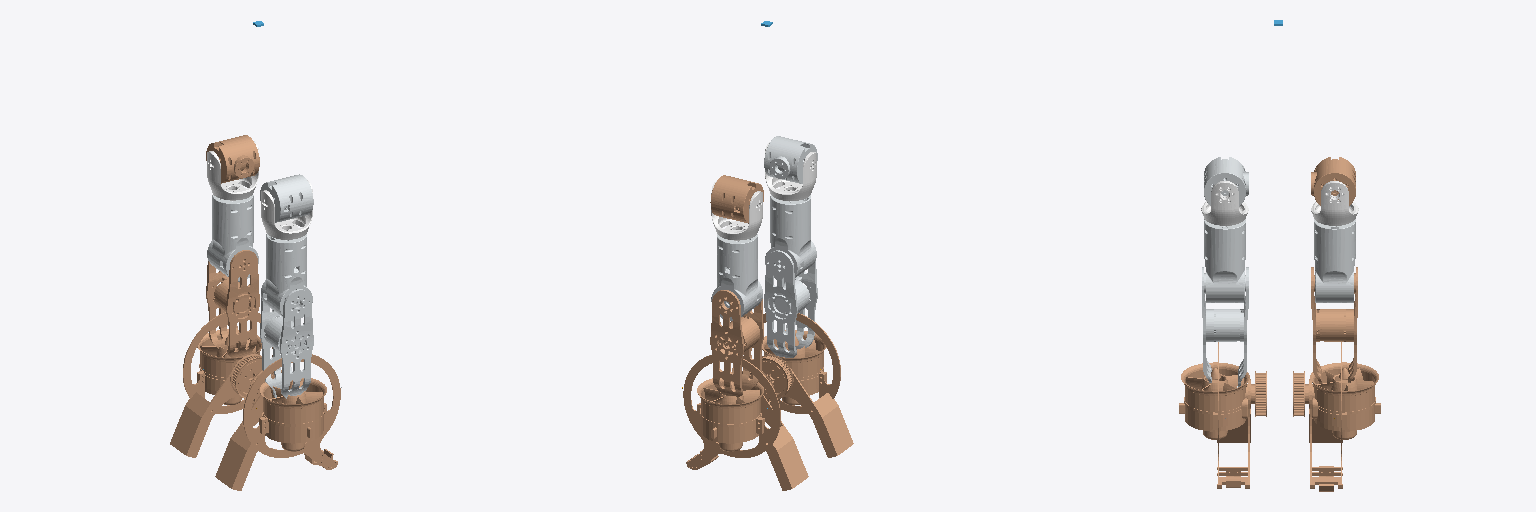
--- Render facts (derived) ---
The picture shows the robot from 3 angles, left to right: view 1: azimuth 30°, elevation 25°; view 2: azimuth 150°, elevation 25°; view 3: azimuth 270°, elevation 25°; orthographic projection.
Model legged_dm_description with 17 links and 16 joints (10 revolute, 6 fixed), rooted at base_link, posed every joint at zero.
Links seen in each view (by area): view 1: leg_r5_link, leg_l5_link, leg_r4_link, leg_l4_link, leg_l3_link, leg_r3_link, leg_l1_link, leg_r1_link, leg_l2_link, leg_r2_link; view 2: leg_l5_link, leg_r5_link, leg_l4_link, leg_r4_link, leg_l3_link, leg_r3_link, leg_r1_link, leg_l1_link, leg_l2_link, leg_r2_link; view 3: leg_l5_link, leg_r5_link, leg_r3_link, leg_l3_link, leg_l4_link, leg_r4_link, leg_l2_link, leg_r2_link, leg_l1_link, leg_r1_link.
Boxes of the visible links, left/top/right/bottom form: leg_r5_link: left=215, top=354, right=340, bottom=490; leg_l5_link: left=170, top=312, right=272, bottom=457; leg_r4_link: left=260, top=289, right=313, bottom=398; leg_l4_link: left=206, top=250, right=259, bottom=357; leg_l3_link: left=207, top=195, right=258, bottom=281; leg_r3_link: left=261, top=234, right=312, bottom=320; leg_l1_link: left=206, top=135, right=259, bottom=183; leg_r1_link: left=260, top=174, right=313, bottom=222; leg_l2_link: left=207, top=141, right=258, bottom=200; leg_r2_link: left=261, top=180, right=312, bottom=239; leg_l5_link: left=683, top=355, right=808, bottom=490; leg_r5_link: left=751, top=313, right=853, bottom=457; leg_l4_link: left=710, top=290, right=763, bottom=397; leg_r4_link: left=764, top=250, right=817, bottom=357; leg_l3_link: left=711, top=234, right=762, bottom=320; leg_r3_link: left=765, top=195, right=816, bottom=281; leg_r1_link: left=764, top=136, right=817, bottom=183; leg_l1_link: left=710, top=175, right=763, bottom=223; leg_l2_link: left=711, top=181, right=762, bottom=240; leg_r2_link: left=765, top=142, right=816, bottom=200; leg_l5_link: left=1293, top=342, right=1380, bottom=491; leg_r5_link: left=1179, top=342, right=1266, bottom=488; leg_r3_link: left=1204, top=219, right=1245, bottom=302; leg_l3_link: left=1314, top=219, right=1355, bottom=302; leg_l4_link: left=1311, top=267, right=1357, bottom=383; leg_r4_link: left=1202, top=267, right=1248, bottom=387; leg_l2_link: left=1311, top=181, right=1358, bottom=225; leg_r2_link: left=1201, top=181, right=1248, bottom=225; leg_l1_link: left=1311, top=157, right=1355, bottom=205; leg_r1_link: left=1204, top=157, right=1248, bottom=205.
Size in the robot's own frame: 0.2357 by 0.3521 by 0.8571 metres.
Meshes: 12 distinct files referenced, 10 mesh visuals loaded (10 binary STL); not drawn: 2 (reference not matched to a file when rendering).

The robot description file, URDF, robot "legged_dm_description":
<?xml version="1.0" encoding="utf-8"?>
<!-- This URDF was automatically created by SolidWorks to URDF Exporter! Originally created by Stephen Brawner ([email redacted]) 
     Commit Version: 1.6.0-4-g7f85cfe  Build Version: 1.6.7995.38578
     For more information, please see http://wiki.ros.org/sw_urdf_exporter -->
<robot
  name="legged_dm_description">
  
  <gazebo>
    <plugin name="gazebo_ros_control" filename="libdm_bipedal_hw_sim.so">
      <robotNamespace>/</robotNamespace>
      <robotParam>legged_robot_description</robotParam>
      <robotSimType>legged_gazebo/LeggedHWSim</robotSimType>
    </plugin>
  </gazebo>
  
  <link
    name="base_link">
    <inertial>
      <origin
        xyz="0.003477 0.001569 -0.150376"
        rpy="0 0 0" />
      <mass
        value="2.9867" />
      <inertia
        ixx="0.021202"
        ixy="-0.000029"
        ixz="-0.000399"
        iyy="0.017689"
        iyz="-0.000112"
        izz="0.00834" />
    </inertial>
    <visual>
      <origin
        xyz="0 0 0"
        rpy="0 0 0" />
      <geometry>
        <mesh
          filename="package://legged_dm_description/meshes/base_link.STL" />
      </geometry>
      <material
        name="">
        <color
          rgba="0.792156862745098 0.819607843137255 0.933333333333333 1" />
      </material>
    </visual>
    <collision>
      <origin
        xyz="-0.01 0 -0.11"
        rpy="0 0 0" />
      <geometry>
        <box size="0.10 0.12 0.24" />
      </geometry>
    </collision>
  </link>
  
  
  <joint name="imu_joint" type="fixed">
    <origin rpy="0. 0. 0." xyz="0. 0. 0"/>
    <parent link="base_link"/>
    <child link="imu_link"/>
  </joint>
  <!-- Imu link -->
  <link name="imu_link">
    <inertial>
      <mass value="0.01"/>
      <origin rpy="0 0 0" xyz="0 0 0"/>
      <inertia ixx="0.000001" ixy="0" ixz="0" iyy="0.000001" iyz="0" izz="0.000001"/>
    </inertial>
    <visual>
      <origin rpy="0 0 0" xyz="0 0 0"/>
      <geometry>
        <box size="0.015 0.015 0.004"/>
      </geometry>
    </visual>
    <material name="orange">
      <color rgba="255 108 10 255"/>
    </material>
  </link>
  <gazebo reference="imu_joint">
    <disableFixedJointLumping>true</disableFixedJointLumping>
  </gazebo>



  <link
    name="loin_yaw_Link">
    <inertial>
      <origin
        xyz="-0.000019 0.0 -0.041281"
        rpy="0 0 0" />
      <mass
        value="1.2992" />
      <inertia
        ixx="0.002464"
        ixy="0.0"
        ixz="0.000012"
        iyy="0.001435"
        iyz="0.0"
        izz="0.002372" />
    </inertial>
    <visual>
      <origin
        xyz="0 0 0"
        rpy="0 0 0" />
      <geometry>
        <mesh
          filename="package://legged_dm_description/meshes/loin_yaw_Link.STL" />
      </geometry>
      <material
        name="">
        <color
          rgba="0.854901960784314 0.674509803921569 0.541176470588235 1" />
      </material>
    </visual>
    <collision>
      <origin
        xyz="0 0 -0.045"
        rpy="0 0 0" />
      <geometry>
        <box size="0.08 0.1 0.07" />
      </geometry>
    </collision>
  </link>
  <joint
    name="loin_yaw_joint"
    type="fixed">
    <origin
      xyz="0.0042148 0.0028621 -0.25475"
      rpy="0 0 0" />
    <parent
      link="base_link" />
    <child
      link="loin_yaw_Link" />
    <axis
      xyz="0 0 0" />
  </joint>
  
  <link
    name="leg_l1_link">
    <inertial>
      <origin
        xyz="0.003422 0.041688 -0.000076"
        rpy="0 0 0" />
      <mass
        value="0.51890" />
      <inertia
        ixx="0.000307"
        ixy="-0.000002"
        ixz="-0.000001"
        iyy="0.000305"
        iyz="0.0"
        izz="0.000309" />
    </inertial>
    <visual>
      <origin
        xyz="0 0 0"
        rpy="0 0 0" />
      <geometry>
        <mesh
          filename="package://legged_dm_description/meshes/leg_l1_link.STL" />
      </geometry>
      <material
        name="">
        <color
          rgba="0.854901960784314 0.674509803921569 0.541176470588235 1" />
      </material>
    </visual>
    <collision>
      <origin
        xyz="0 0 0"
        rpy="0 0 0" />
      <geometry>
        <box size="0.0001 0.0001 0.0001" />
      </geometry>
    </collision>
  </link>
  <joint
    name="leg_l1_joint"
    type="revolute">
    <origin
      xyz="0 0.05355 -0.0515"
      rpy="0 0 0" />
    <parent
      link="loin_yaw_Link" />
    <child
      link="leg_l1_link" />
    <axis
      xyz="0 1 0" />
    <limit
      lower="-1.05"
      upper="1.05"
      effort="28"
      velocity="10" />
  </joint>
  
  
  <link
    name="leg_l2_link">
    <inertial>
      <origin
        xyz="-0.029211 0.000016 -0.031591"
        rpy="0 0 0" />
      <mass
        value="0.1429" />
      <inertia
        ixx="0.000157"
        ixy="0.0"
        ixz="-0.000008"
        iyy="0.000254"
        iyz="0.0"
        izz="0.00017" />
    </inertial>
    <visual>
      <origin
        xyz="0 0 0"
        rpy="0 0 0" />
      <geometry>
        <mesh
          filename="package://legged_dm_description/meshes/leg_l2_link.STL" />
      </geometry>
      <material
        name="">
        <color
          rgba="1 1 1 1" />
      </material>
    </visual>
     <collision>
      <origin
        xyz="0 0 0"
        rpy="0 0 0" />
      <geometry>
        <box size="0.0001 0.0001 0.0001" />
      </geometry>
    </collision>
  </link>
  <joint
    name="leg_l2_joint"
    type="revolute">
    <origin
      xyz="0.03105 0.042 0"
      rpy="0 0 0" />
    <parent
      link="leg_l1_link" />
    <child
      link="leg_l2_link" />
    <axis
      xyz="1 0 0" />
    <limit
      lower="-0.52"
      upper="0.785"
      effort="28"
      velocity="10" />
  </joint>
  
  
  <link
    name="leg_l3_link">
    <inertial>
      <origin
        xyz="-0.000082 0.001688 -0.070672"
        rpy="0 0 0" />
      <mass
        value="0.9821" />
      <inertia
        ixx="0.002536"
        ixy="0.000001"
        ixz="0.000009"
        iyy="0.002518"
        iyz="0.000081"
        izz="0.000580" />
    </inertial>
    <visual>
      <origin
        xyz="0 0 0"
        rpy="0 0 0" />
      <geometry>
        <mesh
          filename="package://legged_dm_description/meshes/leg_l3_link.STL" />
      </geometry>
      <material
        name="">
        <color
          rgba="0.898039215686275 0.917647058823529 0.929411764705882 1" />
      </material>
    </visual>
    <collision>
      <origin
        xyz="0 0 0"
        rpy="0 0 0" />
      <geometry>
        <box size="0.0001 0.0001 0.0001" />
      </geometry>
    </collision>
  </link>
  <joint
    name="leg_l3_joint"
    type="revolute">
    <origin
      xyz="-0.03105 0 -0.07405"
      rpy="0 0 0" />
    <parent
      link="leg_l2_link" />
    <child
      link="leg_l3_link" />
    <axis
      xyz="0 0 1" />
    <limit
      lower="-0.52"
      upper="0.785"
      effort="28"
      velocity="10" />
  </joint>
  
  
  <link
    name="leg_l4_link">
    <inertial>
      <origin
        xyz="0.000193 -0.033837 -0.078429"
        rpy="0 0 0" />
      <mass
        value="0.5069" />
      <inertia
        ixx="0.000963"
        ixy="-0.000004"
        ixz="0.0"
        iyy="0.000827"
        iyz="0.000006"
        izz="0.000364" />
    </inertial>
    <visual>
      <origin
        xyz="0 0 0"
        rpy="0 0 0" />
      <geometry>
        <mesh
          filename="package://legged_dm_description/meshes/leg_l4_link.STL" />
      </geometry>
      <material
        name="">
        <color
          rgba="0.854901960784314 0.674509803921569 0.541176470588235 1" />
      </material>
    </visual>
    <collision>
      <origin xyz="0 -0.03 -0.1" rpy="0 0 0" />
      <geometry>
        <box size="0.041 0.07 0.15" />
      </geometry>
    </collision>
  </link>
  <joint
    name="leg_l4_joint"
    type="revolute">
    <origin
      xyz="0 0.03105 -0.11705"
      rpy="0 0 0" />
    <parent
      link="leg_l3_link" />
    <child
      link="leg_l4_link" />
    <axis
      xyz="0 1 0" />
    <limit
      lower="-0.3"
      upper="2.3562"
      effort="28"
      velocity="10" />
  </joint>
  
  
  <link
    name="leg_l5_link">
     <inertial>
      <origin
        xyz="0.000551 -0.008875 0.018431"
        rpy="0 0 0" />
      <mass
        value="0.2272" />
      <inertia
        ixx="0.000644"
        ixy="0.000011"
        ixz="0.000215"
        iyy="0.001037"
        iyz="-0.000062"
        izz="0.000498" />
    </inertial>
    <visual>
      <origin
        xyz="0 0 0"
        rpy="0 0 0" />
      <geometry>
        <mesh
          filename="package://legged_dm_description/meshes/leg_l5_link.STL" />
      </geometry>
      <material
        name="">
        <color
          rgba="0.854901960784314 0.674509803921569 0.541176470588235 1" />
      </material>
    </visual>
    <collision>
      <origin
        xyz="0.027 -0.012 -0.012"
        rpy="0 0 0" />
      <geometry>
        <box size="0.175 0.05 0.02" />
      </geometry>
    </collision>
  </link>
  <joint
    name="leg_l5_joint"
    type="revolute">
    <origin
      xyz="-1.6188E-05 -0.01955 -0.20287"
      rpy="0 0 0" />
    <parent
      link="leg_l4_link" />
    <child
      link="leg_l5_link" />
    <axis
      xyz="0 1 0" />
    <limit
      lower="-1.047"
      upper="0.3"
      effort="28"
      velocity="10" />
  </joint>
  
  
  
   <joint name="leg_l5_fixed_1" type="fixed">
    <origin xyz="0.113 -0.012 -0.003" rpy="0 0 0" />
    <parent link="leg_l5_link" />
    <child link="leg_l_f1_link" />
  </joint>
  <link name="leg_l_f1_link">
    <inertial>
      <mass value="0.01" />
      <inertia ixx="0.000001" ixy="0" ixz="0" iyy="0.000001" iyz="0" izz="0.000001" />
    </inertial>
    <visual>
      <origin rpy="0 0 0" xyz="0 0 0"/>
      <geometry>
        <sphere radius="0.001"/>
      </geometry>
    </visual>
    <collision>
      <origin rpy="0 0 0" xyz="0 0 0"/>
      <geometry>
        <sphere radius="0.001"/>
      </geometry>
    </collision>
  </link>

  <joint name="leg_l5_fixed_2" type="fixed">
    <origin xyz="-0.061 -0.012 -0.003" rpy="0 0 0" />
    <parent link="leg_l5_link" />
    <child link="leg_l_f2_link" />
  </joint>
  <link name="leg_l_f2_link">
    <inertial>
      <mass value="0.01" />
      <inertia ixx="0.000001" ixy="0" ixz="0" iyy="0.000001" iyz="0" izz="0.000001" />
    </inertial>
    <visual>
      <origin rpy="0 0 0" xyz="0 0 0"/>
      <geometry>
        <sphere radius="0.001"/>
      </geometry>
    </visual>
    <collision>
      <origin rpy="0 0 0" xyz="-0 0 0"/>
      <geometry>
        <sphere radius="0.001"/>
      </geometry>
    </collision>
  </link>


   <gazebo reference="leg_l1_link">
    <mu1>0.6</mu1>
    <mu2>0.6</mu2>
    <self_collide>1</self_collide>
  </gazebo>
  <gazebo reference="leg_l2_link">
    <mu1>0.6</mu1>
    <mu2>0.6</mu2>
    <self_collide>1</self_collide>
  </gazebo>
  <gazebo reference="leg_l3_link">
    <mu1>0.6</mu1>
    <mu2>0.6</mu2>
    <self_collide>1</self_collide>
  </gazebo>
  <gazebo reference="leg_l4_link">
    <mu1>0.6</mu1>
    <mu2>0.6</mu2>
    <self_collide>1</self_collide>
  </gazebo>
  <gazebo reference="leg_l5_link">
    <mu1>0.7</mu1>
    <mu2>0.7</mu2>
    <self_collide>1</self_collide>
    <kp value="1000000.0"/>
    <kd value="100.0"/>
    <maxVel>1.0</maxVel>
    <minDepth>0.00</minDepth>
  </gazebo>
  <gazebo reference="leg_l_f1_link">
    <mu1>1.5</mu1>
    <mu2>1.5</mu2>
    <self_collide>1</self_collide>
    <kp value="1000000.0"/>
    <kd value="100.0"/>
    <maxVel>1.0</maxVel>
    <minDepth>0.00</minDepth>
  </gazebo>
  <gazebo reference="leg_l_f2_link">
    <mu1>1.5</mu1>
    <mu2>1.5</mu2>
    <self_collide>1</self_collide>
    <kp value="1000000.0"/>
    <kd value="100.0"/>
    <maxVel>1.0</maxVel>
    <minDepth>0.00</minDepth>
  </gazebo>

  <transmission name="leg_l1_tran">
    <type>transmission_interface/SimpleTransmission</type>
    <joint name="leg_l1_joint">
      <hardwareInterface>hardware_interface/EffortJointInterface</hardwareInterface>
    </joint>
    <actuator name="leg_l1_motor">
      <hardwareInterface>hardware_interface/EffortJointInterface</hardwareInterface>
      <mechanicalReduction>1</mechanicalReduction>
    <maxVelocity>10</maxVelocity><!-- 85rpm -->
	  <maxEffort>28</maxEffort><!-- 36Nm -->
    </actuator>
  </transmission>

  <transmission name="leg_l2_tran">
    <type>transmission_interface/SimpleTransmission</type>
    <joint name="leg_l2_joint">
      <hardwareInterface>hardware_interface/EffortJointInterface</hardwareInterface>
    </joint>
    <actuator name="leg_l2_motor">
      <hardwareInterface>hardware_interface/EffortJointInterface</hardwareInterface>
      <mechanicalReduction>1</mechanicalReduction>
    <maxVelocity>10</maxVelocity><!-- 85rpm -->
	  <maxEffort>28</maxEffort><!-- 36Nm -->
    </actuator>
  </transmission>

  <transmission name="leg_l3_tran">
    <type>transmission_interface/SimpleTransmission</type>
    <joint name="leg_l3_joint">
      <hardwareInterface>hardware_interface/EffortJointInterface</hardwareInterface>
    </joint>
    <actuator name="leg_l3_motor">
      <hardwareInterface>hardware_interface/EffortJointInterface</hardwareInterface>
      <mechanicalReduction>1</mechanicalReduction>
    <maxVelocity>10</maxVelocity><!-- 85rpm -->
	  <maxEffort>28</maxEffort><!-- 36Nm -->
    </actuator>
  </transmission>

  <transmission name="leg_l4_tran">
    <type>transmission_interface/SimpleTransmission</type>
    <joint name="leg_l4_joint">
      <hardwareInterface>hardware_interface/EffortJointInterface</hardwareInterface>
    </joint>
    <actuator name="leg_l1_motor">
      <hardwareInterface>hardware_interface/EffortJointInterface</hardwareInterface>
      <mechanicalReduction>1</mechanicalReduction>
    <maxVelocity>10</maxVelocity><!-- 85rpm -->
	  <maxEffort>28</maxEffort><!-- 36Nm -->
    </actuator>
  </transmission>

  <transmission name="leg_l5_tran">
    <type>transmission_interface/SimpleTransmission</type>
    <joint name="leg_l5_joint">
      <hardwareInterface>hardware_interface/EffortJointInterface</hardwareInterface>
    </joint>
    <actuator name="leg_l1_motor">
      <hardwareInterface>hardware_interface/EffortJointInterface</hardwareInterface>
      <mechanicalReduction>1</mechanicalReduction>
    <maxVelocity>10</maxVelocity><!-- 85rpm -->
	  <maxEffort>28</maxEffort><!-- 36Nm -->
    </actuator>
  </transmission>
  
  
  
  
  <link
    name="leg_r1_link">
    <inertial>
      <origin
        xyz="0.00342 -0.041705 -0.000084"
        rpy="0 0 0" />
      <mass
        value="0.51890" />
      <inertia
        ixx="0.000307"
        ixy="0.000002"
        ixz="-0.000001"
        iyy="0.000305"
        iyz="0.0"
        izz="0.000309" />
    </inertial>
    <visual>
      <origin
        xyz="0 0 0"
        rpy="0 0 0" />
      <geometry>
        <mesh
          filename="package://legged_dm_description/meshes/leg_r1_link.STL" />
      </geometry>
      <material
        name="">
        <color
          rgba="0.898039215686275 0.917647058823529 0.929411764705882 1" />
      </material>
    </visual>
     <collision>
      <origin
        xyz="0 0 0"
        rpy="0 0 0" />
      <geometry>
        <box size="0.0001 0.0001 0.0001" />
      </geometry>
    </collision>
  </link>
  <joint
    name="leg_r1_joint"
    type="revolute">
    <origin
      xyz="0 -0.05355 -0.0515"
      rpy="0 0 0" />
    <parent
      link="loin_yaw_Link" />
    <child
      link="leg_r1_link" />
    <axis
      xyz="0 1 0" />
    <limit
      lower="-1.05"
      upper="1.05"
      effort="28"
      velocity="10" />
  </joint>
  
  
  <link
    name="leg_r2_link">
    <inertial>
      <origin
        xyz="-0.029211 0.000016 -0.031544"
        rpy="0 0 0" />
      <mass
        value="0.1429" />
      <inertia
        ixx="0.000157"
        ixy="0.0"
        ixz="-0.000008"
        iyy="0.000254"
        iyz="0.0"
        izz="0.000170" />
    </inertial>
    <visual>
      <origin
        xyz="0 0 0"
        rpy="0 0 0" />
      <geometry>
        <mesh
          filename="package://legged_dm_description/meshes/leg_r2_link.STL" />
      </geometry>
      <material
        name="">
        <color
          rgba="1 1 1 1" />
      </material>
    </visual>
    <collision>
      <origin
        xyz="0 0 0"
        rpy="0 0 0" />
      <geometry>
        <box size="0.0001 0.0001 0.0001" />
      </geometry>
    </collision>
  </link>
  <joint
    name="leg_r2_joint"
    type="revolute">
    <origin
      xyz="0.03105 -0.042 0"
      rpy="0 0 0" />
    <parent
      link="leg_r1_link" />
    <child
      link="leg_r2_link" />
    <axis
      xyz="1 0 0" />
    <limit
      lower="-0.785"
      upper="0.52"
      effort="28"
      velocity="10" />
  </joint>
  
  
  <link
    name="leg_r3_link">
    <inertial>
      <origin
        xyz="0.000170 -0.001688 -0.070673"
        rpy="0 0 0" />
      <mass
        value="0.982100" />
      <inertia
        ixx="0.002536"
        ixy="-0.000001"
        ixz="-0.000005"
        iyy="0.002518"
        iyz="-0.000081"
        izz="0.000580" />
    </inertial>
    <visual>
      <origin
        xyz="0 0 0"
        rpy="0 0 0" />
      <geometry>
        <mesh
          filename="package://legged_dm_description/meshes/leg_r3_link.STL" />
      </geometry>
      <material
        name="">
        <color
          rgba="0.898039215686275 0.917647058823529 0.929411764705882 1" />
      </material>
    </visual>
    <collision>
      <origin
        xyz="0 0 0"
        rpy="0 0 0" />
      <geometry>
        <box size="0.0001 0.0001 0.0001" />
      </geometry>
    </collision>
  </link>
  <joint
    name="leg_r3_joint"
    type="revolute">
    <origin
      xyz="-0.03105 0 -0.07405"
      rpy="0 0 0" />
    <parent
      link="leg_r2_link" />
    <child
      link="leg_r3_link" />
    <axis
      xyz="0 0 1" />
    <limit
      lower="-0.785"
      upper="0.52"
      effort="28"
      velocity="10" />
  </joint>
  <link
    name="leg_r4_link">
    <inertial>
      <origin
        xyz="0.000261 0.033885 -0.078429"
        rpy="0 0 0" />
      <mass
        value="0.5069" />
      <inertia
        ixx="0.000963"
        ixy="0.000003"
        ixz="0.000001"
        iyy="0.000827"
        iyz="-0.000006"
        izz="0.000364" />
    </inertial>
    <visual>
      <origin
        xyz="0 0 0"
        rpy="0 0 0" />
      <geometry>
        <mesh
          filename="package://legged_dm_description/meshes/leg_r4_link.STL" />
      </geometry>
      <material
        name="">
        <color
          rgba="0.898039215686275 0.917647058823529 0.929411764705882 1" />
      </material>
    </visual>
    <collision>
      <origin xyz="0 0.03 -0.1" rpy="0 0 0" />
      <geometry>
        <box size="0.041 0.07 0.15" />
      </geometry>
    </collision>
  </link>
  <joint
    name="leg_r4_joint"
    type="revolute">
    <origin
      xyz="0 -0.03105 -0.11705"
      rpy="0 0 0" />
    <parent
      link="leg_r3_link" />
    <child
      link="leg_r4_link" />
    <axis
      xyz="0 1 0" />
    <limit
      lower="-0.3"
      upper="2.3562"
      effort="28"
      velocity="10" />
  </joint>
  
  
  <link
    name="leg_r5_link">
    <inertial>
      <origin
        xyz="0.000549 0.008875 0.018429"
        rpy="0 0 0" />
      <mass
        value="0.2272" />
      <inertia
        ixx="0.000644"
        ixy="-0.000011"
        ixz="0.000215"
        iyy="0.001037"
        iyz="0.000062"
        izz="0.000498" />
    </inertial>
    <visual>
      <origin
        xyz="0 0 0"
        rpy="0 0 0" />
      <geometry>
        <mesh
          filename="package://legged_dm_description/meshes/leg_r5_link.STL" />
      </geometry>
      <material
        name="">
        <color
          rgba="0.854901960784314 0.674509803921569 0.541176470588235 1" />
      </material>
    </visual>
    <collision>
      <origin
        xyz="0.027 0.012 -0.012"
        rpy="0 0 0" />
      <geometry>
        <box size="0.175 0.05 0.02" />
      </geometry>
    </collision>
  </link>
  <joint
    name="leg_r5_joint"
    type="revolute">
    <origin
      xyz="0 0.0196 -0.20286"
      rpy="0 0 0" />
    <parent
      link="leg_r4_link" />
    <child
      link="leg_r5_link" />
    <axis
      xyz="0 1 0" />
    <limit
      lower="-1.047"
      upper="0.3"
      effort="28"
      velocity="10" />
  </joint>
  
  
  <joint name="leg_r5_fixed_1" type="fixed">
    <origin xyz="0.113 0.012 -0.003" rpy="0 0 0" />
    <parent link="leg_r5_link" />
    <child link="leg_r_f1_link" />
  </joint>
  <link name="leg_r_f1_link">
    <inertial>
      <mass value="0.01" />
      <inertia ixx="0.000001" ixy="0" ixz="0" iyy="0.000001" iyz="0" izz="0.000001" />
    </inertial>
    <visual>
      <origin rpy="0 0 0" xyz="0 0 0"/>
      <geometry>
        <sphere radius="0.001"/>
      </geometry>
    </visual>
    <collision>
      <origin rpy="0 0 0" xyz="0 0 0"/>
      <geometry>
        <sphere radius="0.001"/>
      </geometry>
    </collision>
  </link>

  <joint name="leg_r5_fixed_2" type="fixed">
    <origin xyz="-0.061 0.012 -0.003" rpy="0 0 0" />
    <parent link="leg_r5_link" />
    <child link="leg_r_f2_link" />
  </joint>
  <link name="leg_r_f2_link">
    <inertial>
      <mass value="0.01" />
      <inertia ixx="0.000001" ixy="0" ixz="0" iyy="0.000001" iyz="0" izz="0.000001" />
    </inertial>
    <visual>
      <origin rpy="0 0 0" xyz="0 0 0"/>
      <geometry>
        <sphere radius="0.001"/>
      </geometry>
    </visual>
    <collision>
      <origin rpy="0 0 0" xyz="0 0 0"/>
      <geometry>
        <sphere radius="0.001"/>
      </geometry>
    </collision>
  </link>

  
  
    <gazebo reference="leg_r1_link">
    <mu1>0.6</mu1>
    <mu2>0.6</mu2>
    <self_collide>1</self_collide>
  </gazebo>
  <gazebo reference="leg_r2_link">
    <mu1>0.6</mu1>
    <mu2>0.6</mu2>
    <self_collide>1</self_collide>
  </gazebo>
  <gazebo reference="leg_r3_link">
    <mu1>0.6</mu1>
    <mu2>0.6</mu2>
    <self_collide>1</self_collide>
  </gazebo>
  <gazebo reference="leg_r4_link">
    <mu1>0.6</mu1>
    <mu2>0.6</mu2>
    <self_collide>1</self_collide>
  </gazebo>
  <gazebo reference="leg_r5_link">
    <mu1>0.7</mu1>
    <mu2>0.7</mu2>
    <self_collide>1</self_collide>
    <kp value="1000000.0"/>
    <kd value="100.0"/>
    <maxVel>1.0</maxVel>
    <minDepth>0.00</minDepth>
  </gazebo>
  <gazebo reference="leg_r_f1_link">
    <mu1>1.5</mu1>
    <mu2>1.5</mu2>
    <self_collide>1</self_collide>
    <kp value="1000000.0"/>
    <kd value="100.0"/>
    <maxVel>1.0</maxVel>
    <minDepth>0.00</minDepth>
  </gazebo>
  <gazebo reference="leg_r_f2_link">
    <mu1>1.5</mu1>
    <mu2>1.5</mu2>
    <self_collide>1</self_collide>
    <kp value="1000000.0"/>
    <kd value="100.0"/>
    <maxVel>1.0</maxVel>
    <minDepth>0.00</minDepth>
  </gazebo>

  <transmission name="leg_r1_tran">
    <type>transmission_interface/SimpleTransmission</type>
    <joint name="leg_r1_joint">
      <hardwareInterface>hardware_interface/EffortJointInterface</hardwareInterface>
    </joint>
    <actuator name="leg_r1_motor">
      <hardwareInterface>hardware_interface/EffortJointInterface</hardwareInterface>
      <mechanicalReduction>1</mechanicalReduction>
      	  <maxVelocity>10</maxVelocity><!-- 85rpm -->
	    <maxEffort>28</maxEffort><!-- 36Nm -->
    </actuator>
  </transmission>

  <transmission name="leg_r2_tran">
    <type>transmission_interface/SimpleTransmission</type>
    <joint name="leg_r2_joint">
      <hardwareInterface>hardware_interface/EffortJointInterface</hardwareInterface>
    </joint>
    <actuator name="leg_r2_motor">
      <hardwareInterface>hardware_interface/EffortJointInterface</hardwareInterface>
      <mechanicalReduction>1</mechanicalReduction>
      	  <maxVelocity>10</maxVelocity><!-- 85rpm -->
	<maxEffort>28</maxEffort><!-- 36Nm -->
    </actuator>
  </transmission>

  <transmission name="leg_r3_tran">
    <type>transmission_interface/SimpleTransmission</type>
    <joint name="leg_r3_joint">
      <hardwareInterface>hardware_interface/EffortJointInterface</hardwareInterface>
    </joint>
    <actuator name="leg_r1_motor">
      <hardwareInterface>hardware_interface/EffortJointInterface</hardwareInterface>
      <mechanicalReduction>1</mechanicalReduction>
      	  <maxVelocity>10</maxVelocity><!-- 85rpm -->
	<maxEffort>28</maxEffort><!-- 36Nm -->
    </actuator>
  </transmission>

  <transmission name="leg_r4_tran">
    <type>transmission_interface/SimpleTransmission</type>
    <joint name="leg_r4_joint">
      <hardwareInterface>hardware_interface/EffortJointInterface</hardwareInterface>
    </joint>
    <actuator name="leg_r1_motor">
      <hardwareInterface>hardware_interface/EffortJointInterface</hardwareInterface>
      <mechanicalReduction>1</mechanicalReduction>
      	  <maxVelocity>10</maxVelocity><!-- 85rpm -->
	<maxEffort>28</maxEffort><!-- 36Nm -->
    </actuator>
  </transmission>

  <transmission name="leg_r5_tran">
    <type>transmission_interface/SimpleTransmission</type>
    <joint name="leg_r5_joint">
      <hardwareInterface>hardware_interface/EffortJointInterface</hardwareInterface>
    </joint>
    <actuator name="leg_r1_motor">
      <hardwareInterface>hardware_interface/EffortJointInterface</hardwareInterface>
      <mechanicalReduction>1</mechanicalReduction>
      	  <maxVelocity>10</maxVelocity><!-- 85rpm -->
	<maxEffort>28</maxEffort><!-- 36Nm -->
    </actuator>
  </transmission>
  
  
</robot>
